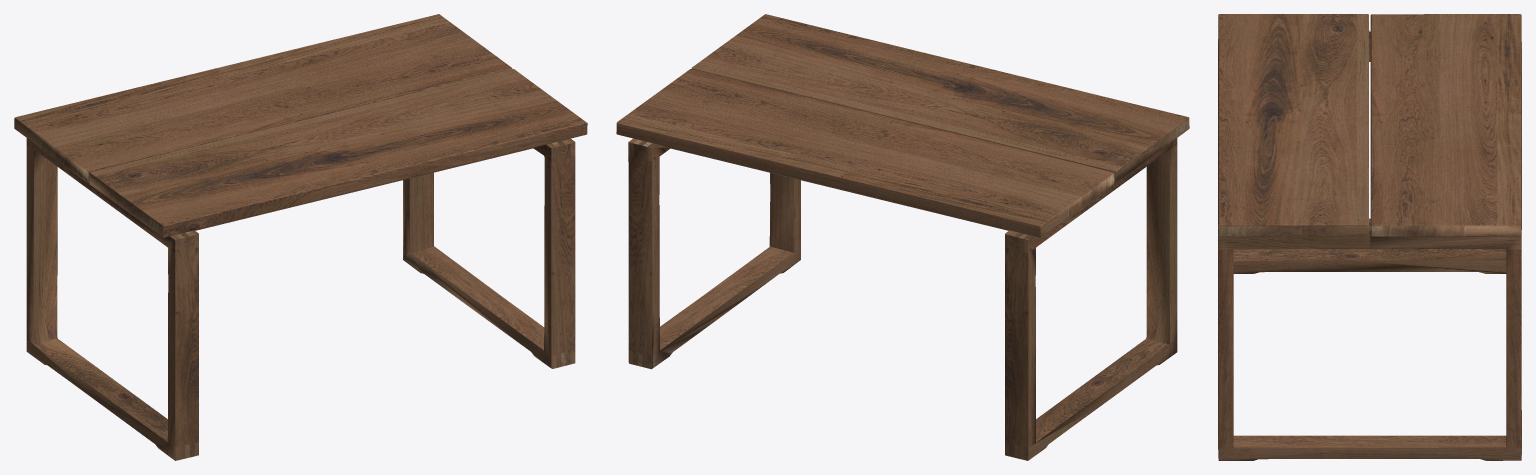
File: morbylanga_sto_50386245.glb
The picture shows the model from 3 angles, left to right: view 1: azimuth 30°, elevation 25°; view 2: azimuth 150°, elevation 25°; view 3: azimuth 270°, elevation 25°; orthographic projection.
Visible parts, largest first — view 1: morbylanga_sto_50386245; view 2: morbylanga_sto_50386245; view 3: morbylanga_sto_50386245.
Part boxes in pixels (x1,y1,x2,y2): morbylanga_sto_50386245: (14, 14, 587, 460); morbylanga_sto_50386245: (616, 14, 1189, 460); morbylanga_sto_50386245: (1218, 14, 1521, 460).
Bounding box in the file's own units: 1.4 × 0.7539 × 0.8519.
Materials: 1 (1 with a texture image).
